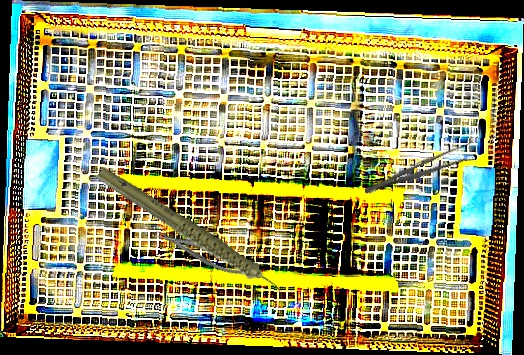Dressing Forceps: (361, 140, 476, 201)
Handpiece: (93, 134, 288, 336)
Needle Holder: (152, 220, 263, 286)
